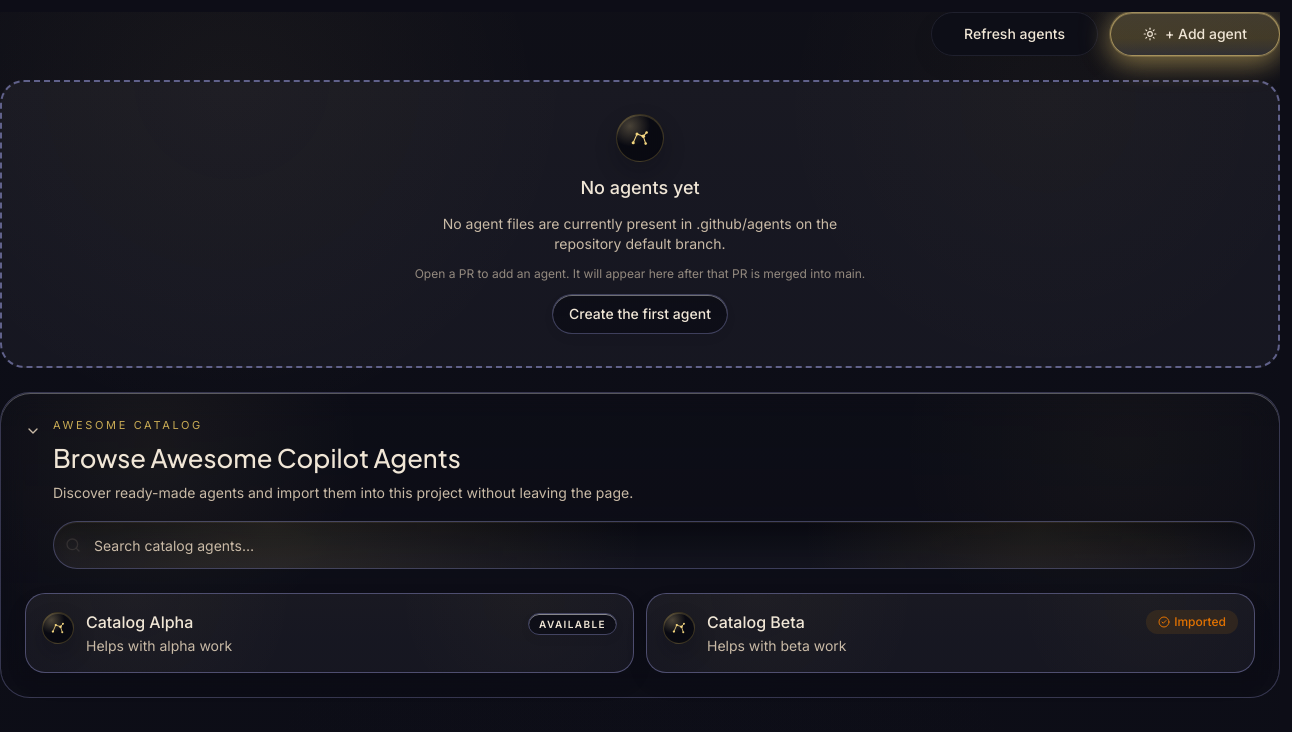
it: AgentsPanel › filters inline catalog agents by search query
Type "Alpha" into the field with placeholder "Search catalog agents…".
click(654, 546); type("Alpha")  # box [53, 522, 1255, 570]
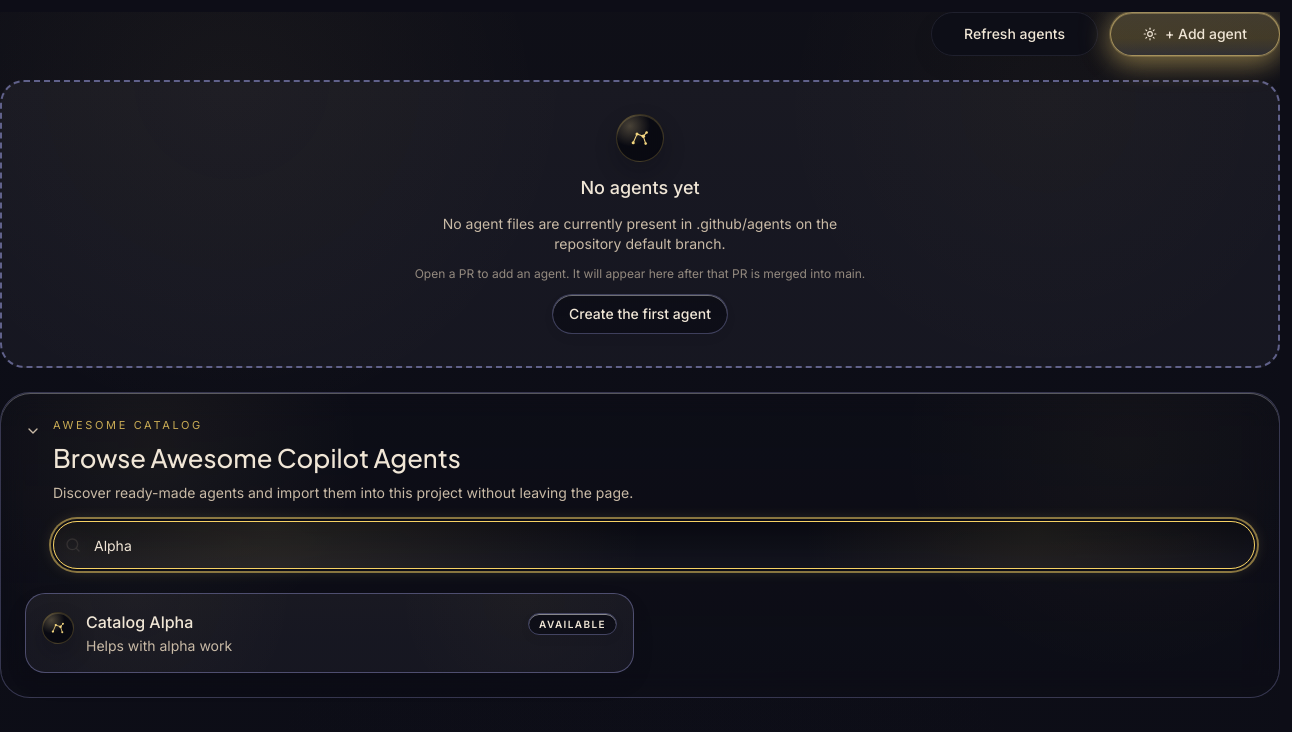
Expected: the heading "Catalog Alpha" is shown, [86, 612, 193, 632]
Expected: the button "Catalog Beta" is gone
